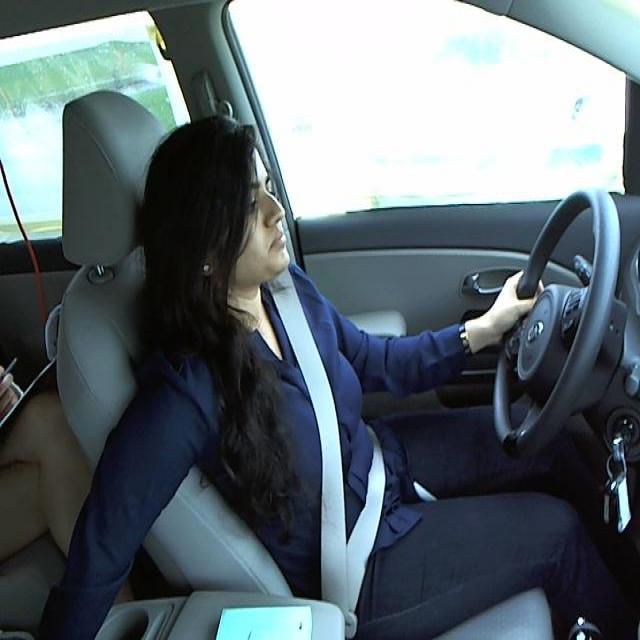seatbelt: (264, 300, 393, 596)
